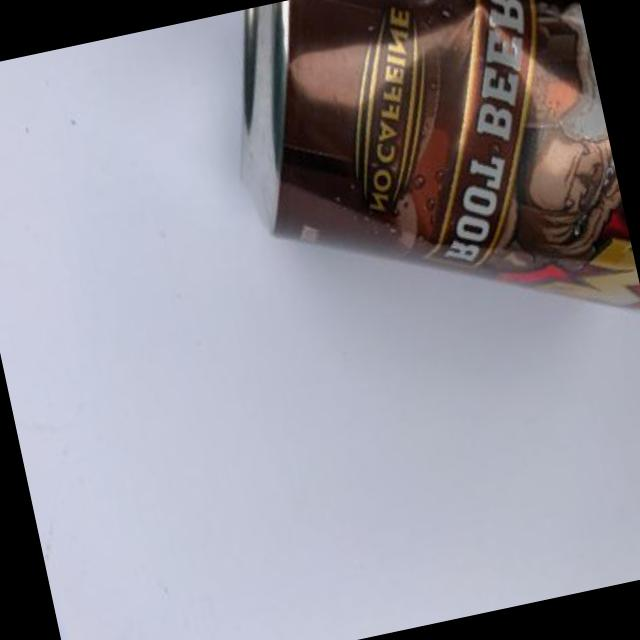kim_loai: (242, 0, 640, 309)
